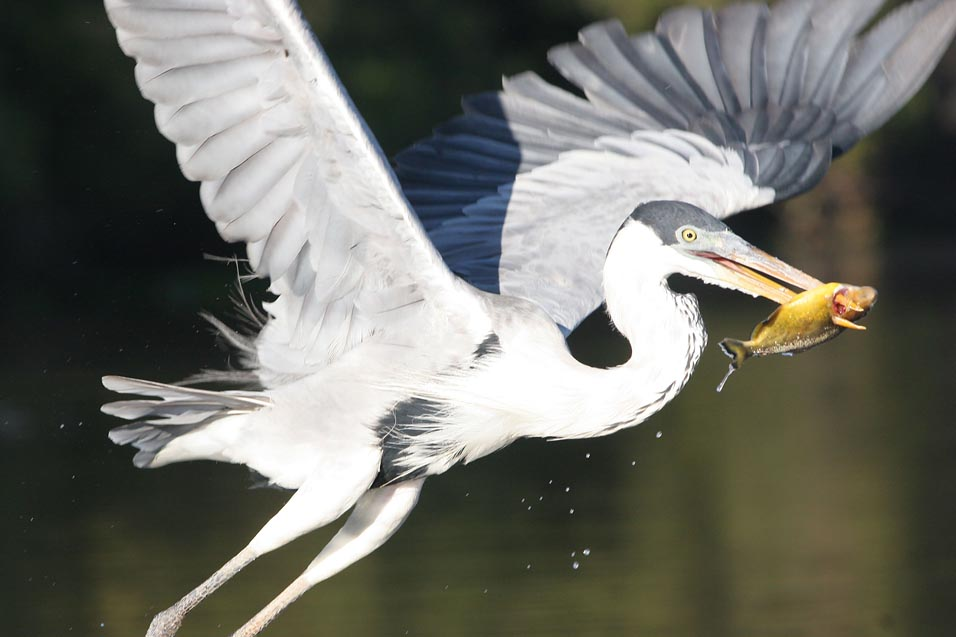heron: (53, 1, 950, 616)
